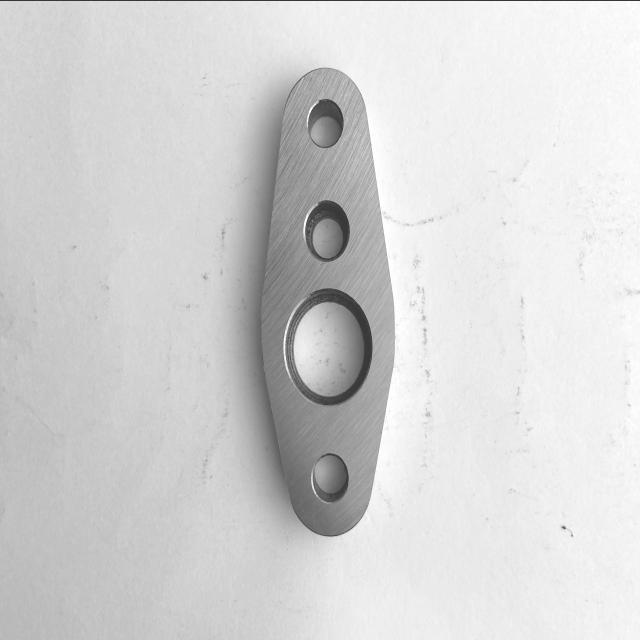chap: (318, 184, 324, 194)
